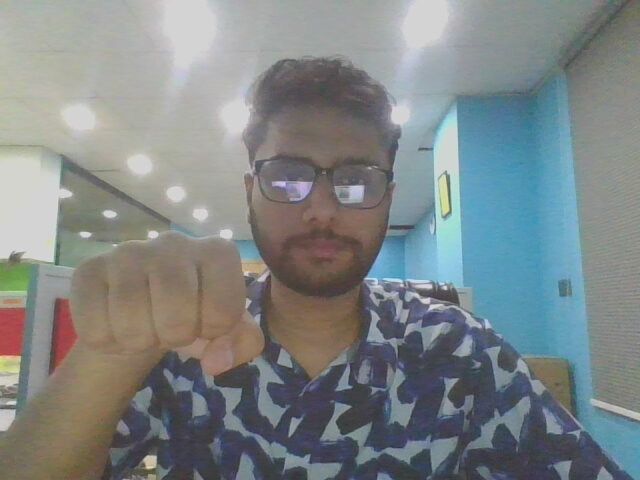yes: (65, 212, 287, 400)
